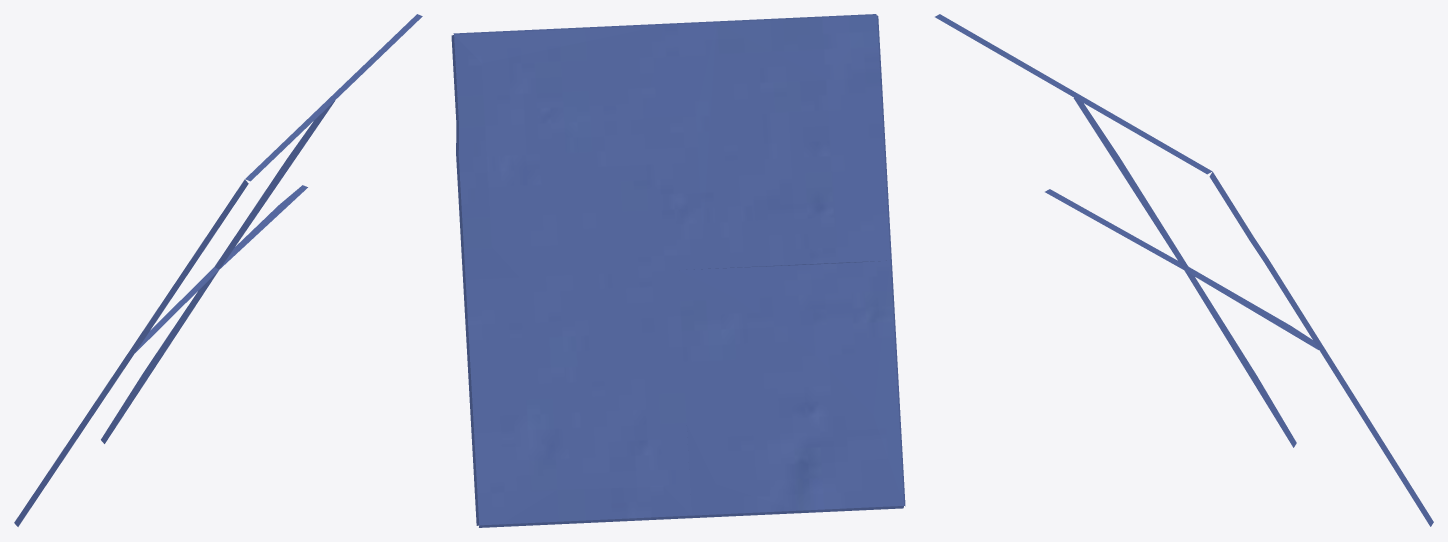
3 renders of one model, left to right at view 1: azimuth 30°, elevation 25°; view 2: azimuth 150°, elevation 25°; view 3: azimuth 270°, elevation 25°, orthographic. The views are drawn at different scales.
Size of the model in its own units: 78734 by 68161 by 73054.
1 material, 1 textured.
